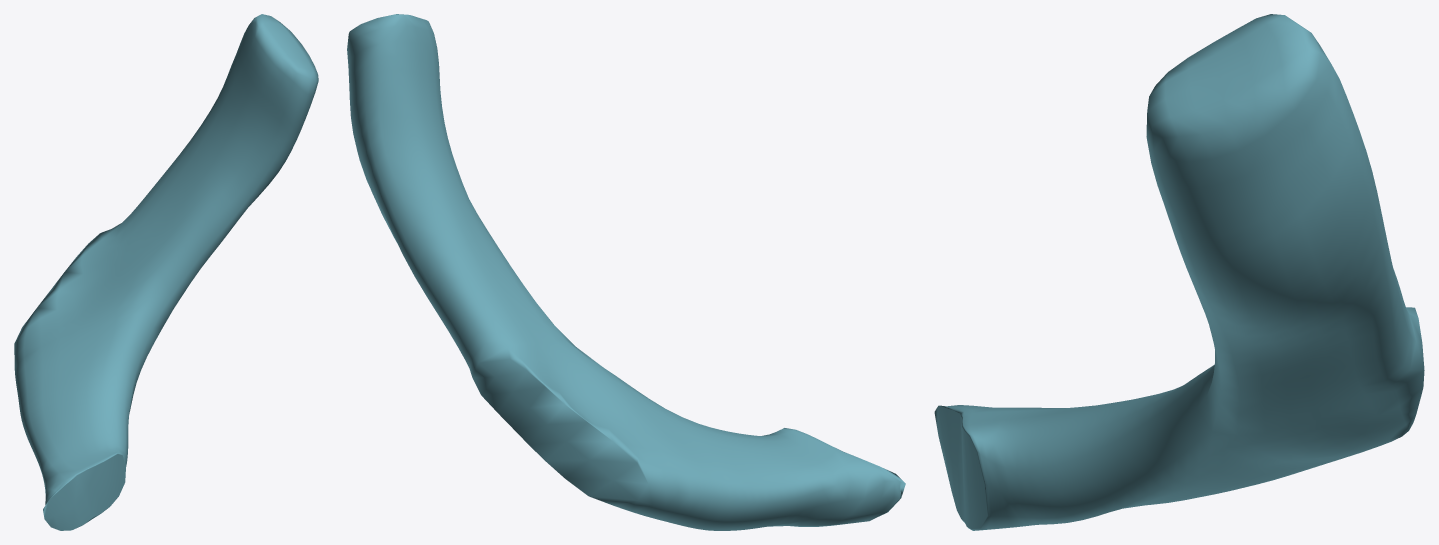
The picture shows the model from 3 angles, left to right: view 1: azimuth 30°, elevation 25°; view 2: azimuth 150°, elevation 25°; view 3: azimuth 270°, elevation 25°; orthographic projection. The views are drawn at different scales.
Visible parts, largest first — view 1: 左侧第九肋软骨; view 2: 左侧第九肋软骨; view 3: 左侧第九肋软骨.
Part boxes in pixels (<box>): 左侧第九肋软骨: <box>14,14,318,530</box>; 左侧第九肋软骨: <box>347,14,905,530</box>; 左侧第九肋软骨: <box>934,14,1424,530</box>.
Size of the model in its own units: 0.0911 by 0.0983 by 0.058.
